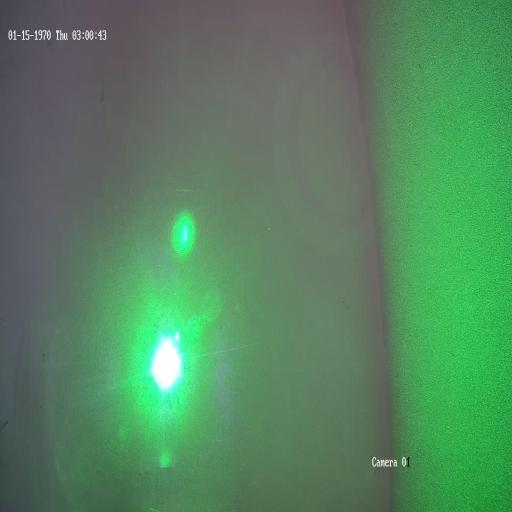laser: (144, 310, 194, 406)
